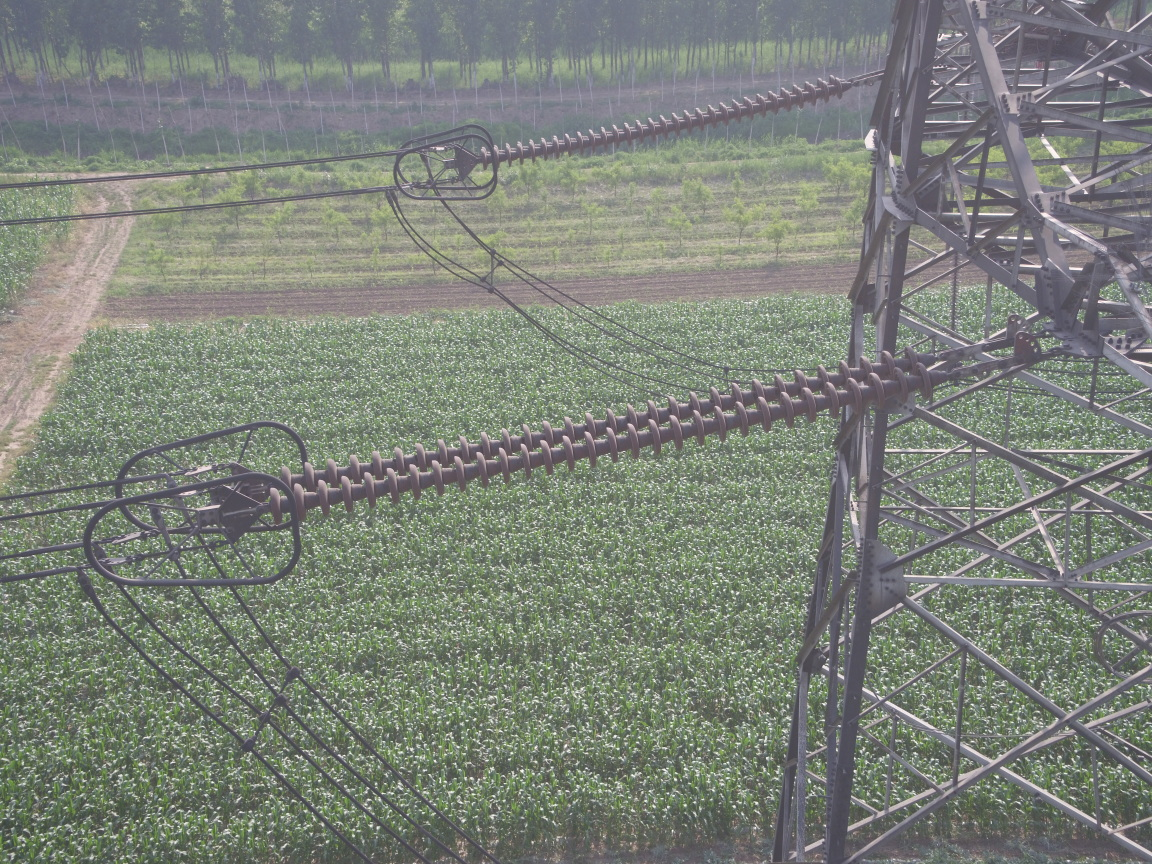insulator: (240, 341, 989, 531), (465, 68, 876, 170)
